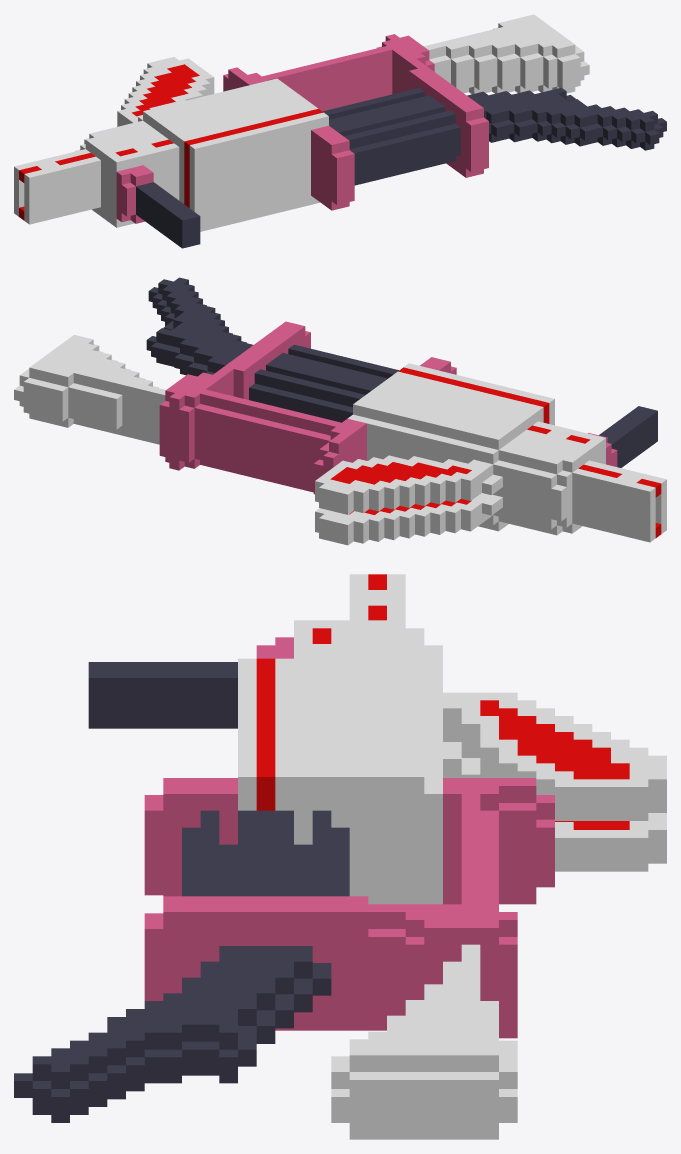
Rendered from gun_4.obj.
The picture shows the model from 3 angles, top to bottom: view 1: azimuth 30°, elevation 25°; view 2: azimuth 150°, elevation 25°; view 3: azimuth 270°, elevation 25°; orthographic projection. The views are drawn at different scales.
Bounding box in the file's own units: 6.2 × 0.9 × 3.5.
Materials: 1 (1 with a texture image).
